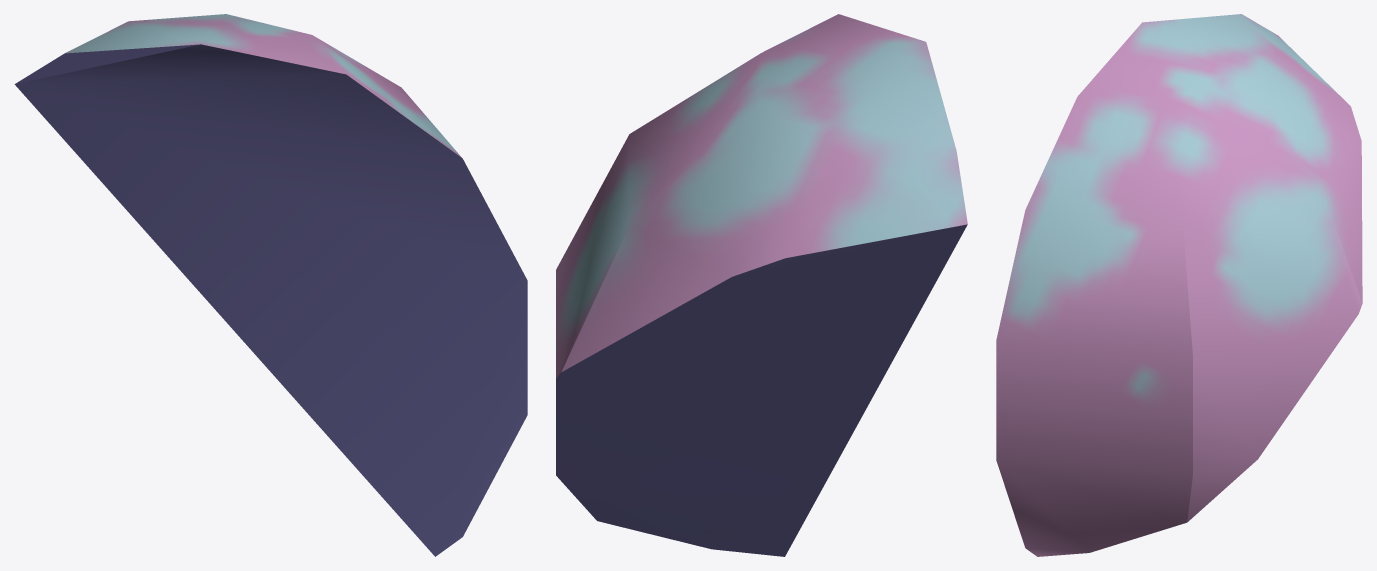
Rendered from ball1.fbx.
3 views of the same model, side by side, from view 1: azimuth 30°, elevation 25°; view 2: azimuth 150°, elevation 25°; view 3: azimuth 270°, elevation 25° (orthographic). The views are drawn at different scales.
Visible parts, largest first — view 1: augur ball1; view 2: augur ball1; view 3: augur ball1.
Boxes of the visible parts, left/top/right/bottom form: augur ball1: left=14, top=14, right=527, bottom=556; augur ball1: left=556, top=14, right=967, bottom=556; augur ball1: left=996, top=14, right=1362, bottom=556.
Bounding box in the file's own units: 43.54 × 54.83 × 39.73.
